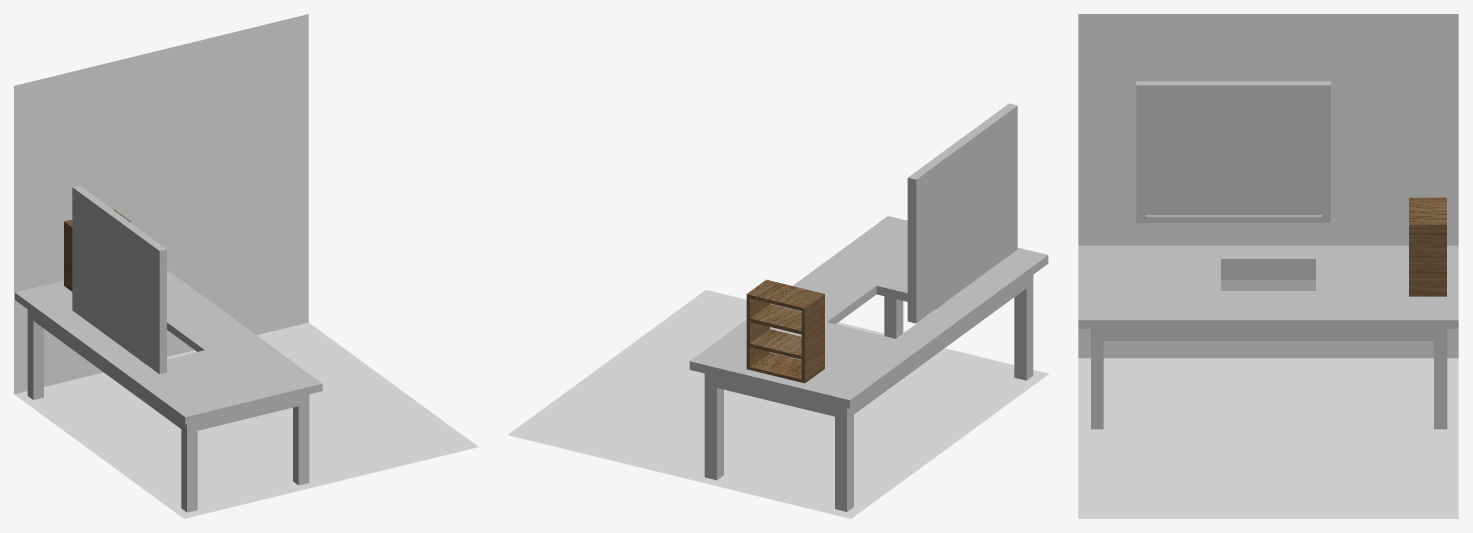
The model's file is room.gltf.
3 renders of one model, left to right at view 1: azimuth 30°, elevation 25°; view 2: azimuth 150°, elevation 25°; view 3: azimuth 270°, elevation 25°, orthographic. The views are drawn at different scales.
Visible parts, largest first — view 1: Right, Floor, Cube, Pegboard, Shelf; view 2: Floor, Cube, Pegboard, Shelf; view 3: Back, Floor, Cube, Pegboard, Shelf.
Part boxes in pixels (x1=…): Right: x1=14, y1=14, x2=308, y2=394; Floor: x1=14, y1=322, x2=478, y2=518; Cube: x1=15, y1=270, x2=322, y2=512; Pegboard: x1=72, y1=185, x2=166, y2=374; Shelf: x1=64, y1=209, x2=130, y2=291; Floor: x1=508, y1=290, x2=1048, y2=518; Cube: x1=689, y1=216, x2=1048, y2=511; Pegboard: x1=907, y1=103, x2=1017, y2=323; Shelf: x1=746, y1=279, x2=824, y2=383; Back: x1=1078, y1=14, x2=1458, y2=358; Floor: x1=1078, y1=358, x2=1458, y2=518; Cube: x1=1078, y1=245, x2=1458, y2=429; Pegboard: x1=1136, y1=81, x2=1330, y2=222; Shelf: x1=1409, y1=197, x2=1446, y2=296.
Size of the model in its own units: 2 by 2 by 2.
